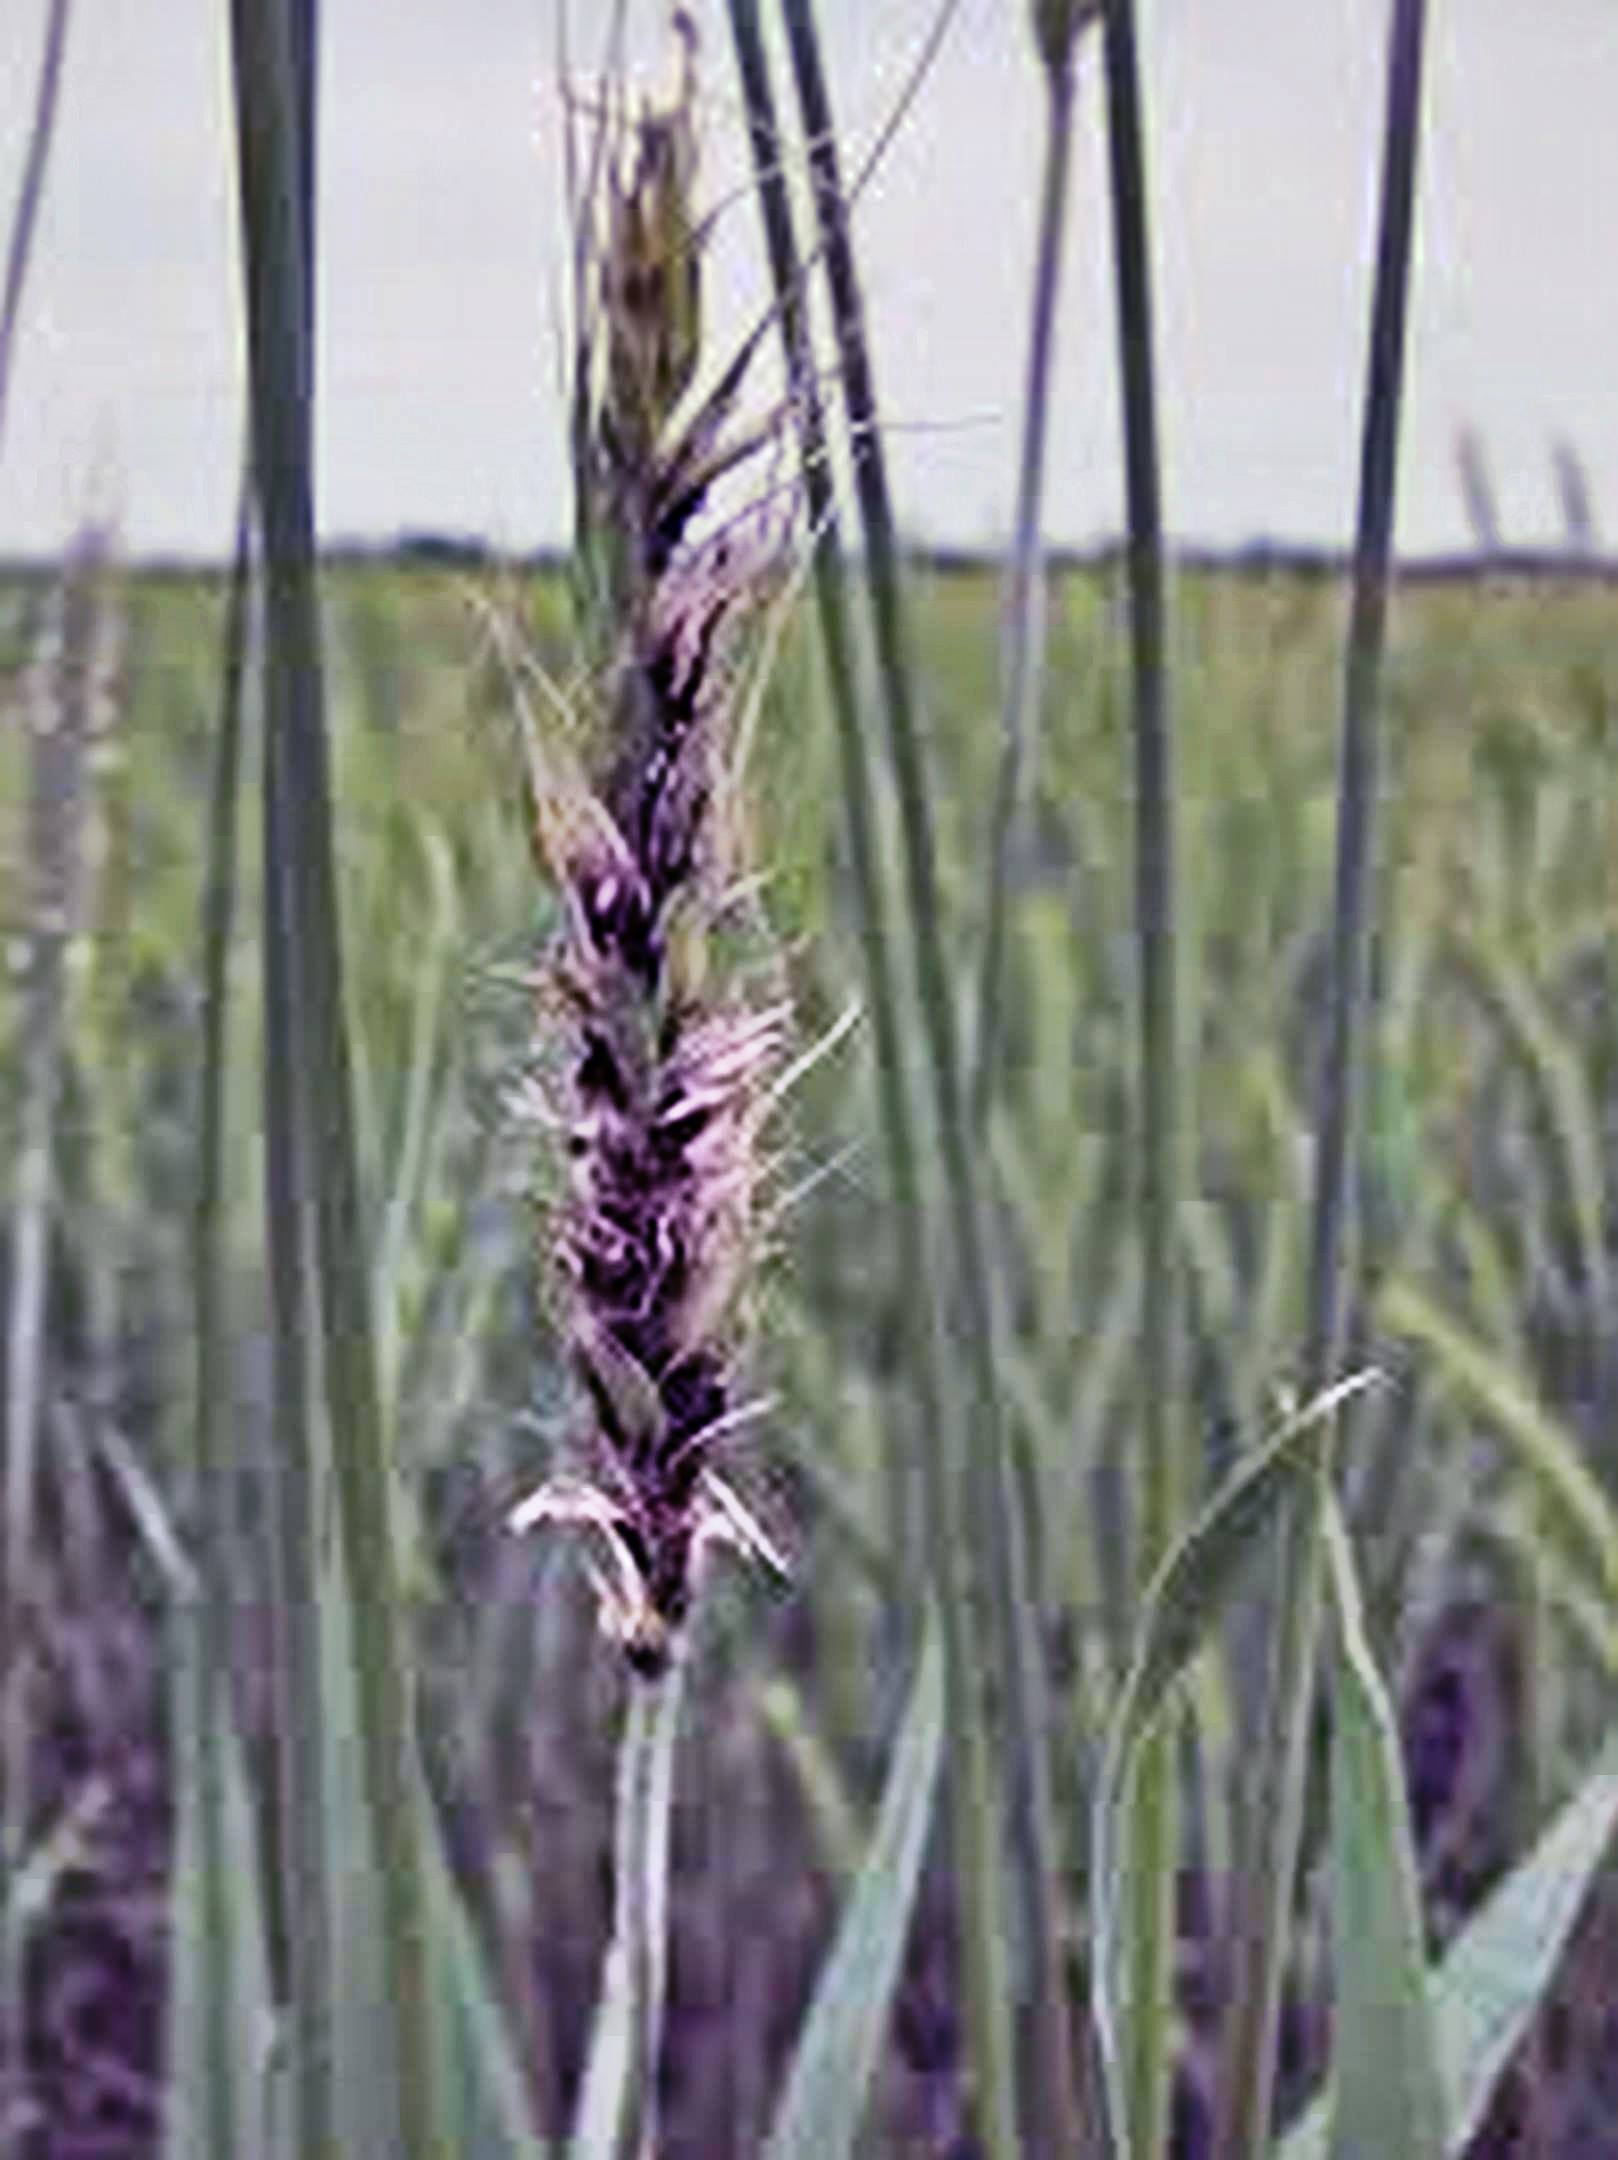Wheat Loose Smut: (500, 124, 816, 1614)
